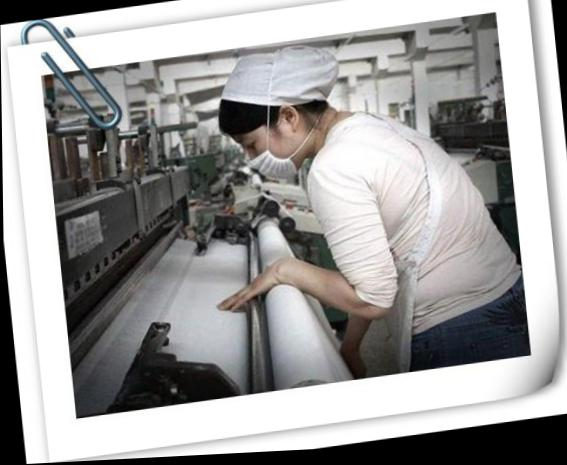WRONG: (236, 111, 313, 190)
